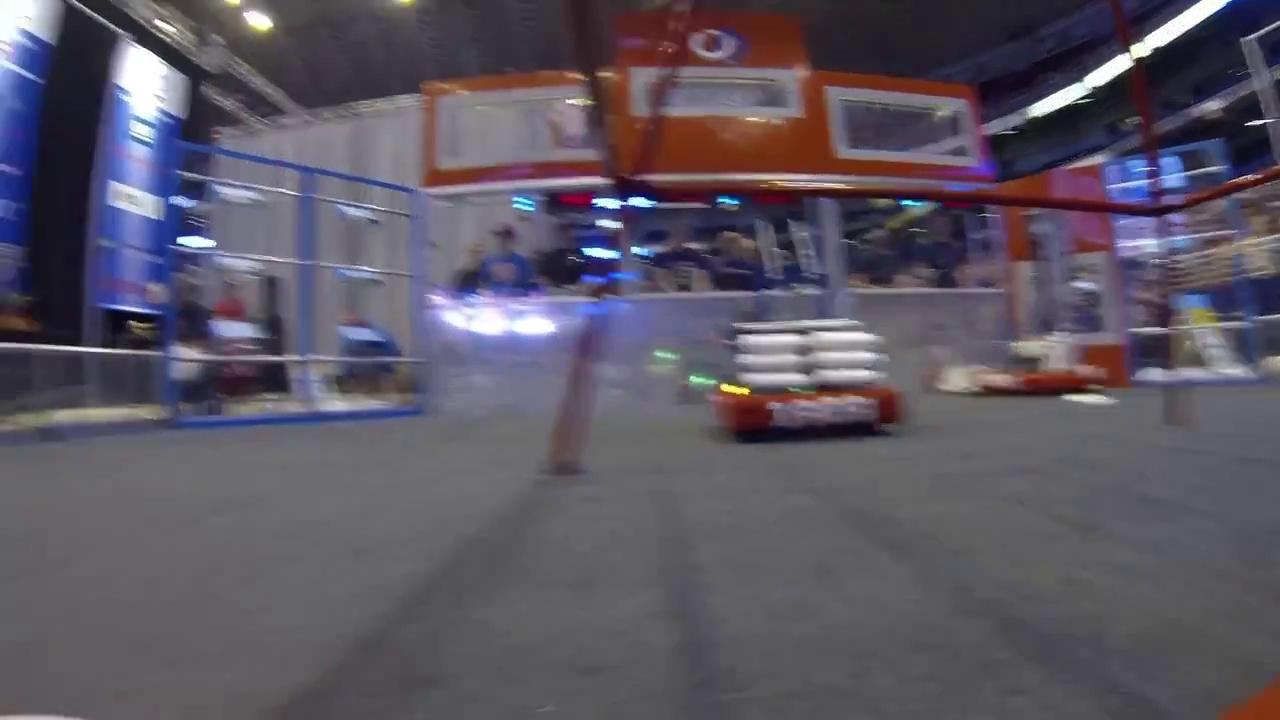robot: (708, 277, 908, 438), (973, 328, 1108, 400)
